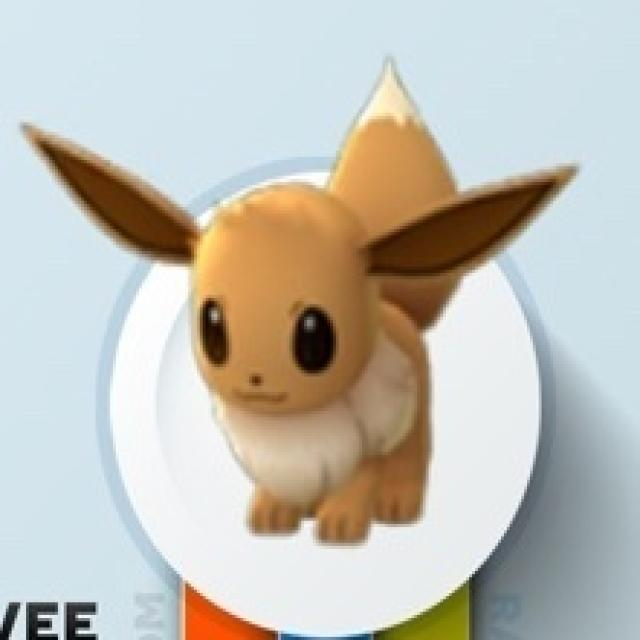Eevee: (160, 169, 437, 544)
